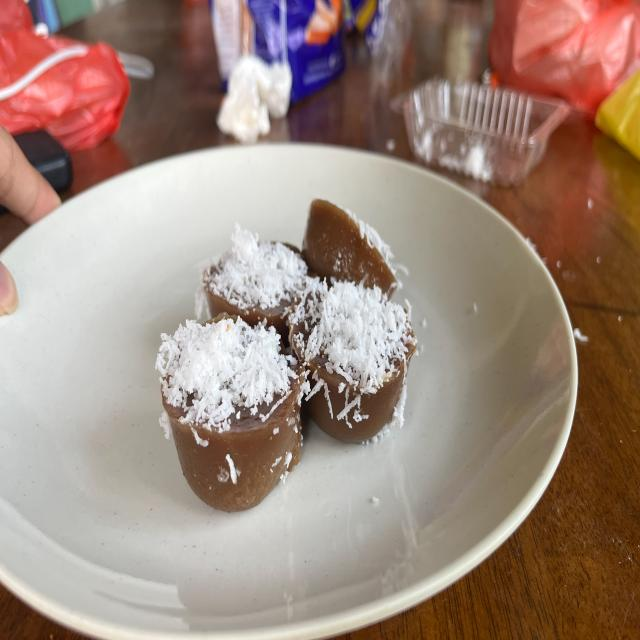Kuih lompang: (156, 316, 305, 511), (289, 278, 416, 442), (204, 222, 308, 342), (301, 200, 396, 298)
